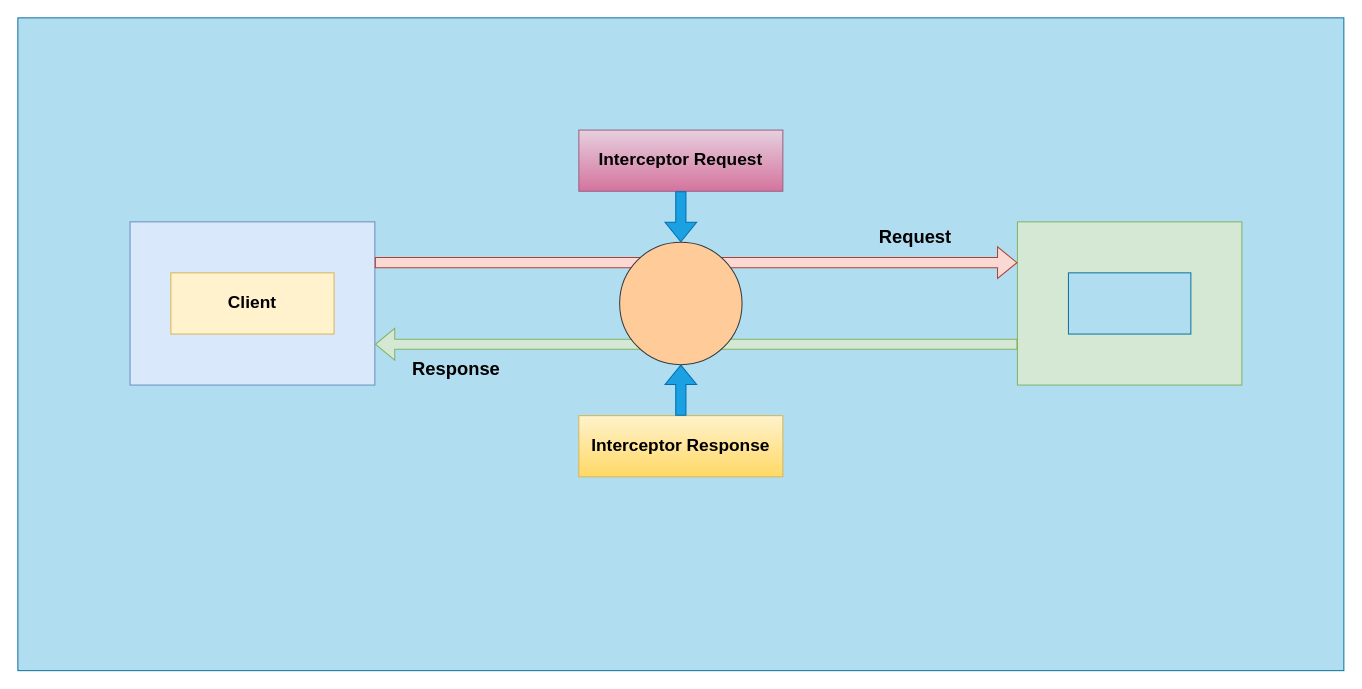
Image size: 1362x689. Some labels were removed from this diagram. Here are the shapes that lost their labels. From the top down, the centre of each, then its label:
pixel 680 303: Xử lý dữ liệu ở giữa
pixel 1129 303: Server
